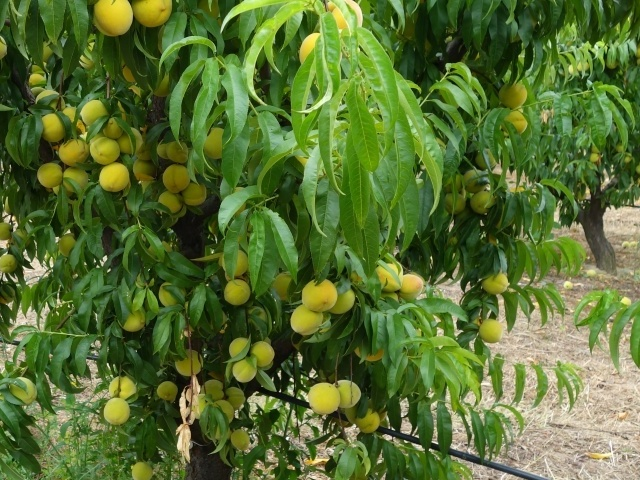peach: (87, 1, 139, 38), (307, 378, 343, 420), (299, 26, 332, 71), (126, 1, 175, 31), (290, 299, 326, 339), (57, 134, 94, 171), (373, 256, 407, 296), (302, 276, 338, 312), (195, 124, 232, 159), (496, 79, 532, 114), (97, 161, 133, 195), (332, 372, 365, 408), (115, 303, 149, 337), (6, 373, 40, 407), (35, 110, 68, 145), (86, 134, 121, 166), (106, 373, 138, 408), (223, 275, 254, 311), (101, 395, 134, 428), (499, 109, 535, 138), (160, 162, 193, 193), (157, 278, 186, 313), (478, 268, 513, 297), (226, 332, 257, 364), (476, 317, 508, 348), (174, 346, 205, 377), (397, 268, 428, 299), (77, 98, 109, 128), (35, 162, 67, 192), (353, 405, 383, 437), (439, 190, 471, 220), (153, 191, 186, 220), (58, 164, 92, 192), (218, 250, 252, 278), (116, 126, 146, 157), (247, 338, 277, 368), (180, 177, 209, 208), (330, 283, 358, 315), (469, 187, 497, 219), (131, 158, 160, 187), (270, 267, 294, 302), (230, 359, 259, 387), (219, 382, 247, 409), (154, 378, 180, 407), (54, 231, 81, 258), (58, 105, 86, 131), (460, 166, 488, 192), (163, 140, 192, 165), (226, 426, 253, 451), (201, 375, 225, 403), (214, 401, 239, 426), (127, 459, 157, 479), (1, 252, 21, 276), (1, 219, 15, 243)
